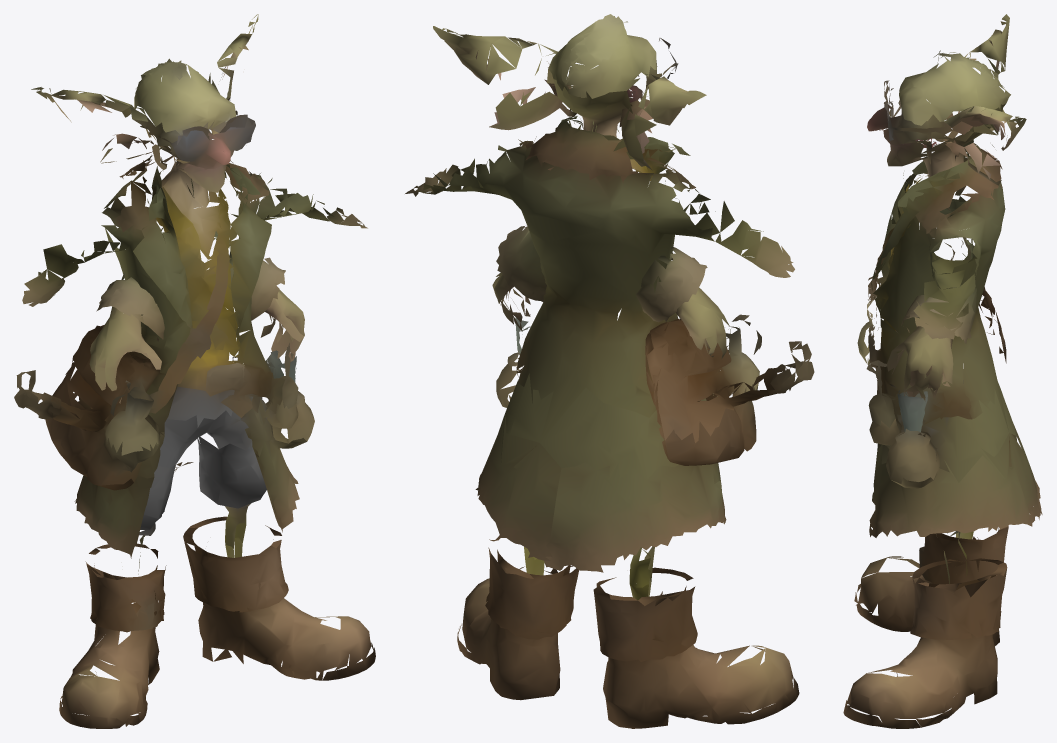
The model's file is pip.glb.
3 renders of one model, left to right at view 1: azimuth 30°, elevation 25°; view 2: azimuth 150°, elevation 25°; view 3: azimuth 270°, elevation 25°, orthographic. The views are drawn at different scales.
Visible parts, largest first — view 1: torso, shinR, shinL, hips, thighR, head, thighL, foreL, foreR, armL; view 2: torso, shinL, thighL, hips, shinR, thighR, head, foreL, foreR, armR, armL; view 3: torso, shinR, thighR, hips, shinL, head, foreR, armR, armL.
Part boxes in pixels (bbox=[...]): torso: bbox=[14, 14, 367, 455]; shinR: bbox=[183, 525, 375, 680]; shinL: bbox=[59, 543, 166, 728]; hips: bbox=[45, 391, 314, 485]; thighR: bbox=[174, 426, 306, 548]; head: bbox=[104, 58, 254, 144]; thighL: bbox=[74, 465, 175, 579]; foreL: bbox=[89, 273, 164, 403]; foreR: bbox=[213, 231, 304, 361]; armL: bbox=[100, 133, 194, 197]; torso: bbox=[405, 26, 814, 442]; shinL: bbox=[593, 567, 799, 728]; thighL: bbox=[544, 462, 726, 605]; hips: bbox=[496, 350, 758, 480]; shinR: bbox=[457, 550, 578, 700]; thighR: bbox=[475, 399, 561, 578]; head: bbox=[535, 14, 670, 98]; foreL: bbox=[636, 247, 730, 359]; foreR: bbox=[492, 226, 546, 331]; armR: bbox=[489, 79, 589, 130]; armL: bbox=[592, 96, 656, 170]; torso: bbox=[857, 14, 1026, 432]; shinR: bbox=[843, 558, 1006, 728]; thighR: bbox=[869, 433, 1042, 597]; hips: bbox=[858, 338, 1016, 483]; shinL: bbox=[854, 527, 1008, 645]; head: bbox=[884, 50, 1010, 134]; foreR: bbox=[887, 252, 976, 401]; armR: bbox=[917, 137, 1001, 252]; armL: bbox=[889, 106, 1004, 214].
Size of the model in its own units: 0.6023 by 0.9986 by 0.2965.
